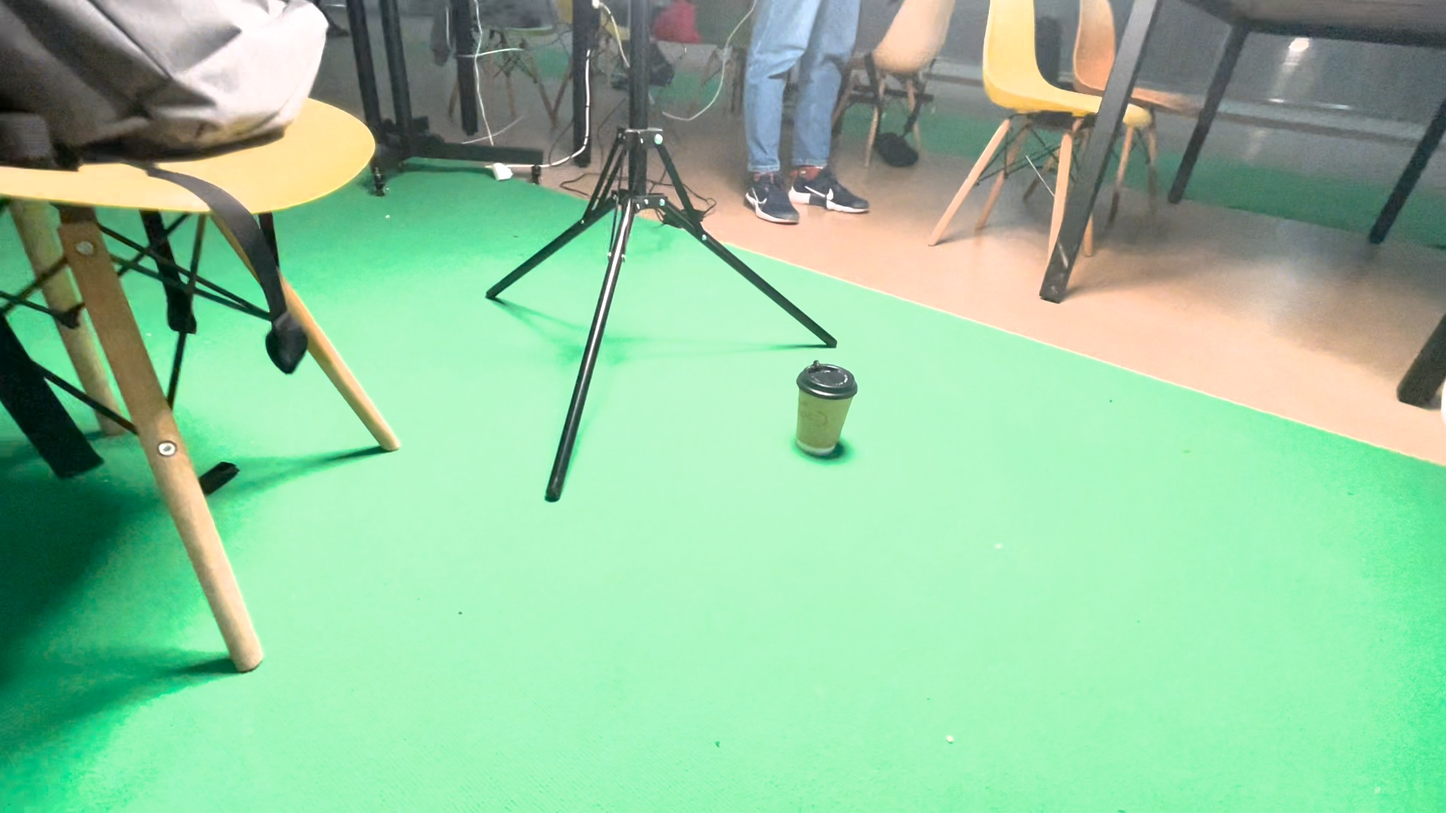cup: (688, 431, 806, 596)
